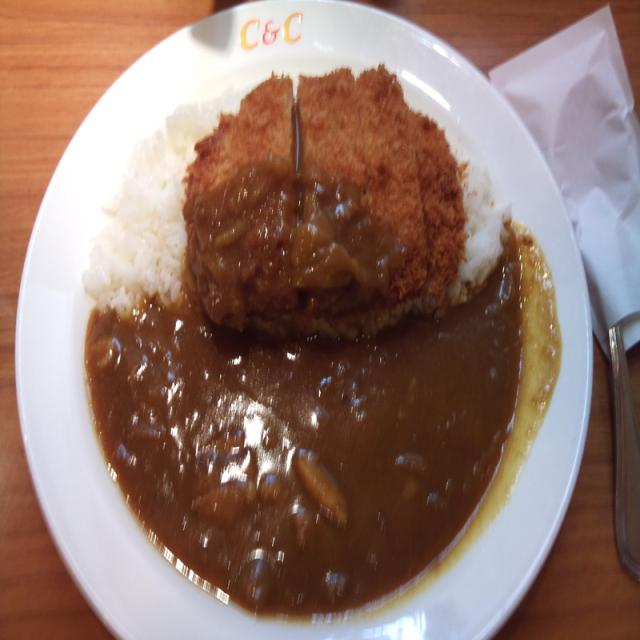猪肉菜式: (0, 0, 601, 640)
